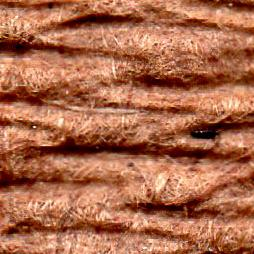egg: (192, 129, 217, 138)
